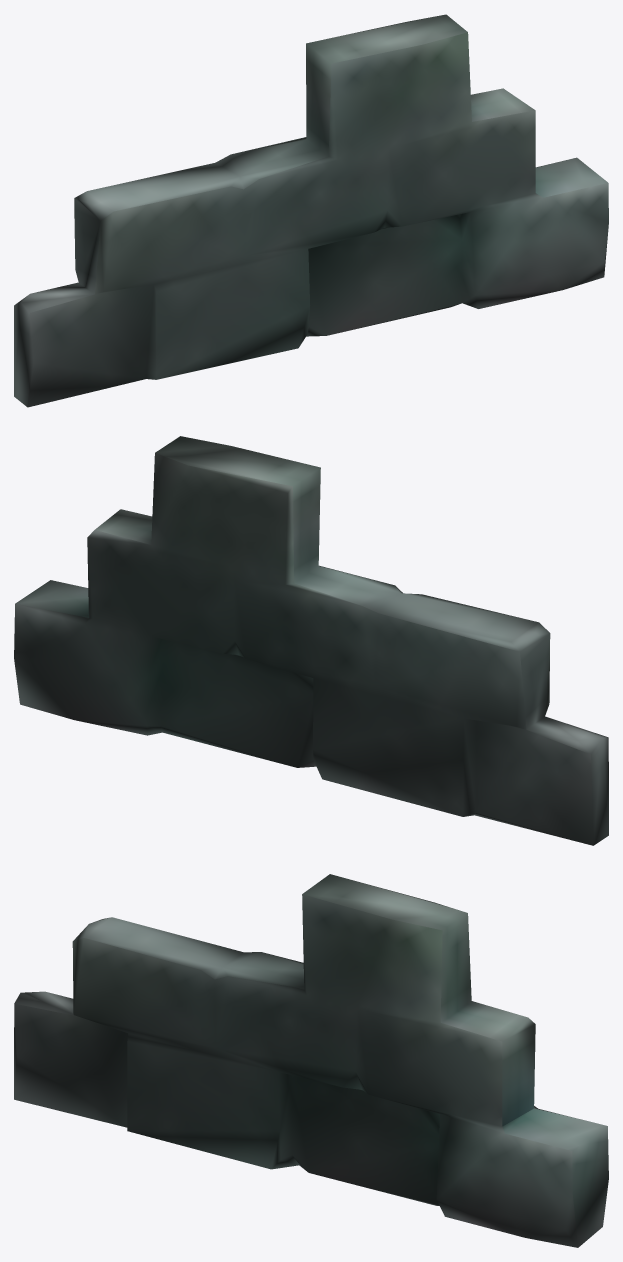
Rendered from stone-wall.lod1.glb.
3 renders of one model, top to bottom at view 1: azimuth 30°, elevation 25°; view 2: azimuth 150°, elevation 25°; view 3: azimuth 330°, elevation 25°, orthographic. The views are drawn at different scales.
Visible parts, largest first — view 1: wall_stone_low_stone_wall_low_0; view 2: wall_stone_low_stone_wall_low_0; view 3: wall_stone_low_stone_wall_low_0.
Part boxes in pixels (box(x1,y1,x2,y2)): wall_stone_low_stone_wall_low_0: box(14, 14, 608, 407); wall_stone_low_stone_wall_low_0: box(14, 436, 608, 845); wall_stone_low_stone_wall_low_0: box(14, 874, 608, 1247).
Bounding box in the file's own units: 2.31 × 1.1 × 0.2826.
1 material, 1 textured.
